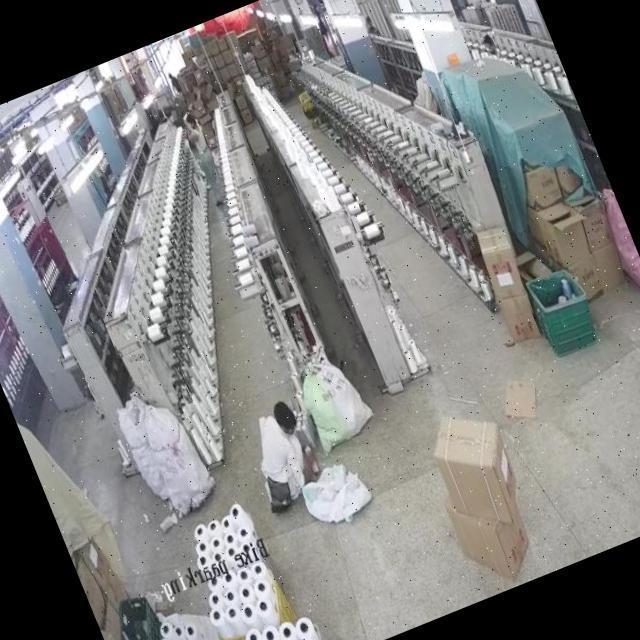person: (240, 399, 320, 504), (173, 109, 230, 208)
